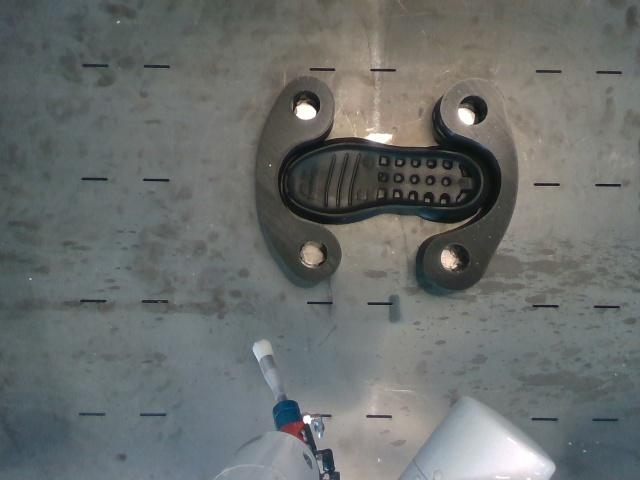shoes: (286, 144, 482, 215)
